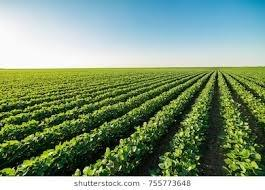field: (0, 68, 264, 175)
